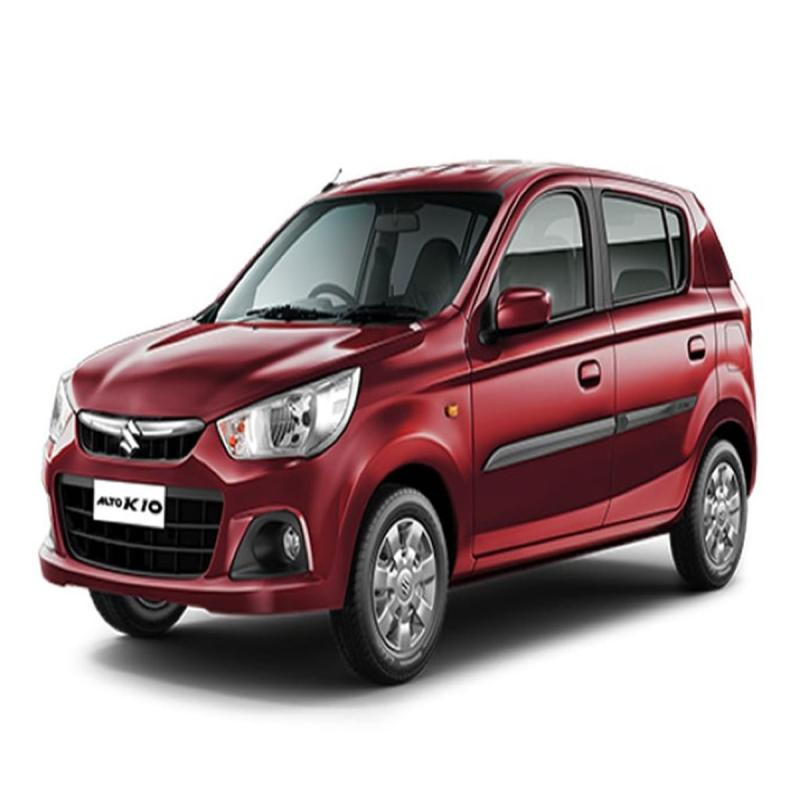car: (54, 145, 741, 669)
